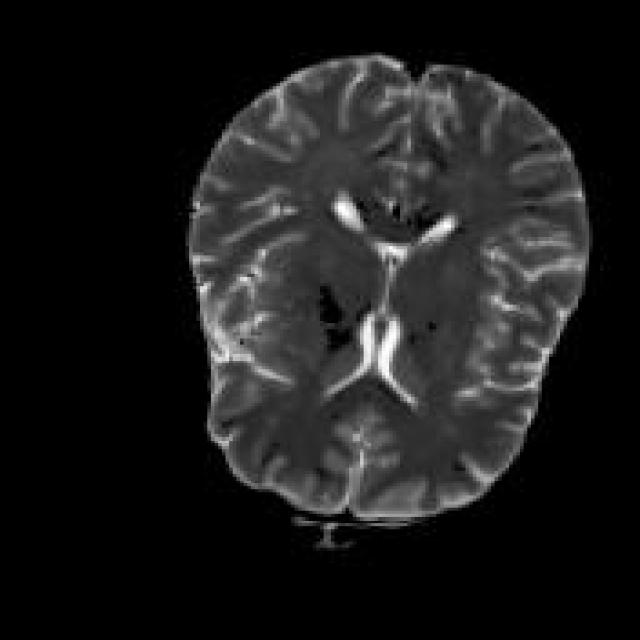parkinson: (182, 49, 593, 545)
